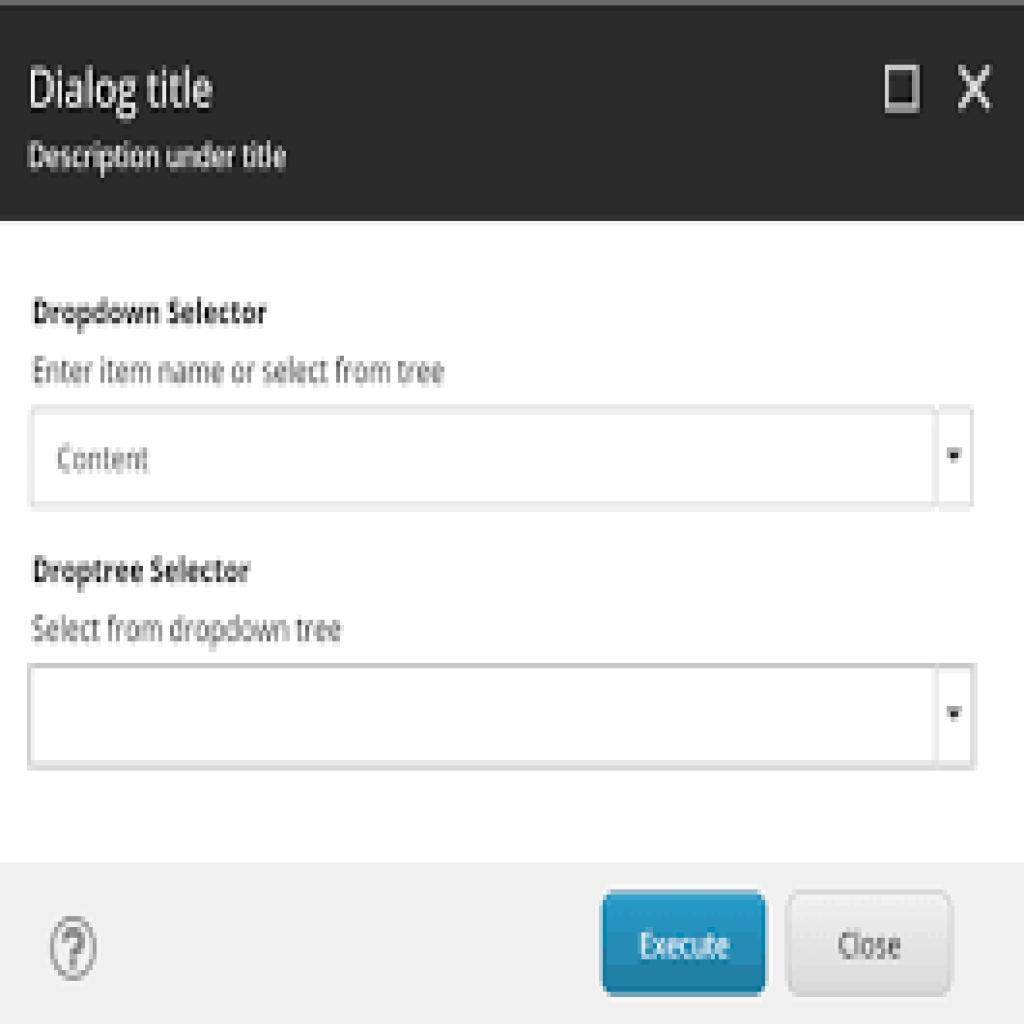button: (787, 894, 952, 999), (604, 891, 766, 995)
dropdown: (32, 667, 973, 768), (33, 409, 978, 509)
label: (32, 349, 448, 395), (31, 612, 355, 656), (31, 291, 272, 332), (29, 550, 255, 593)
